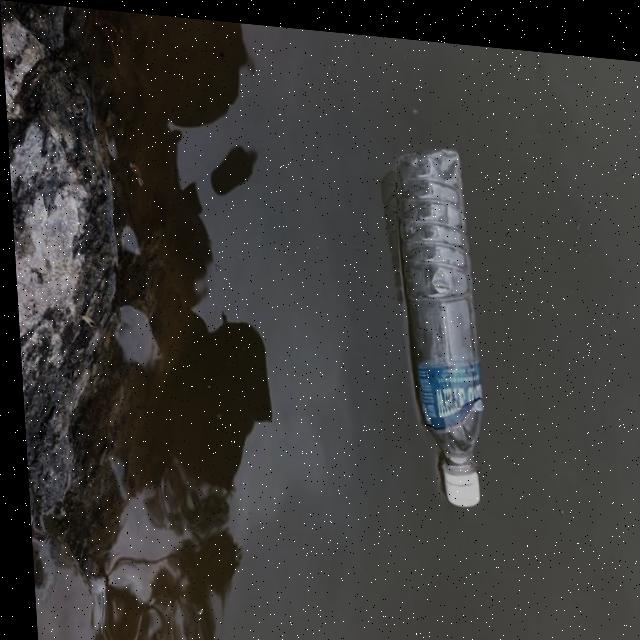waterbottle: (381, 111, 494, 499)
